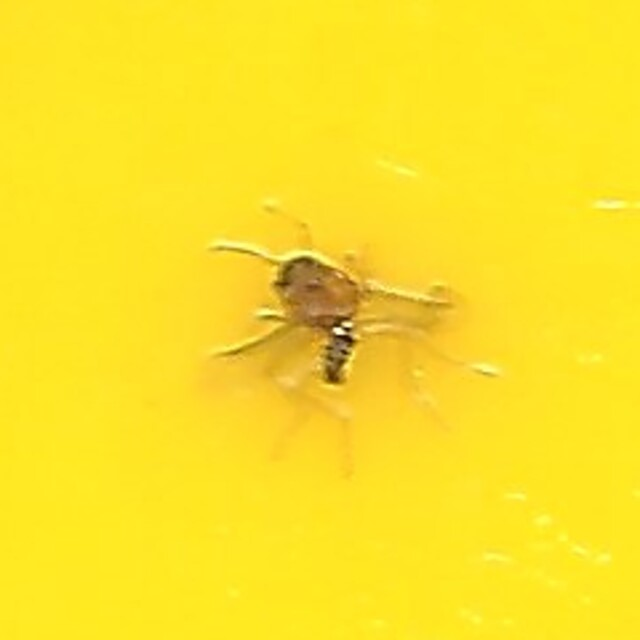Nematocera: (267, 248, 373, 392)
